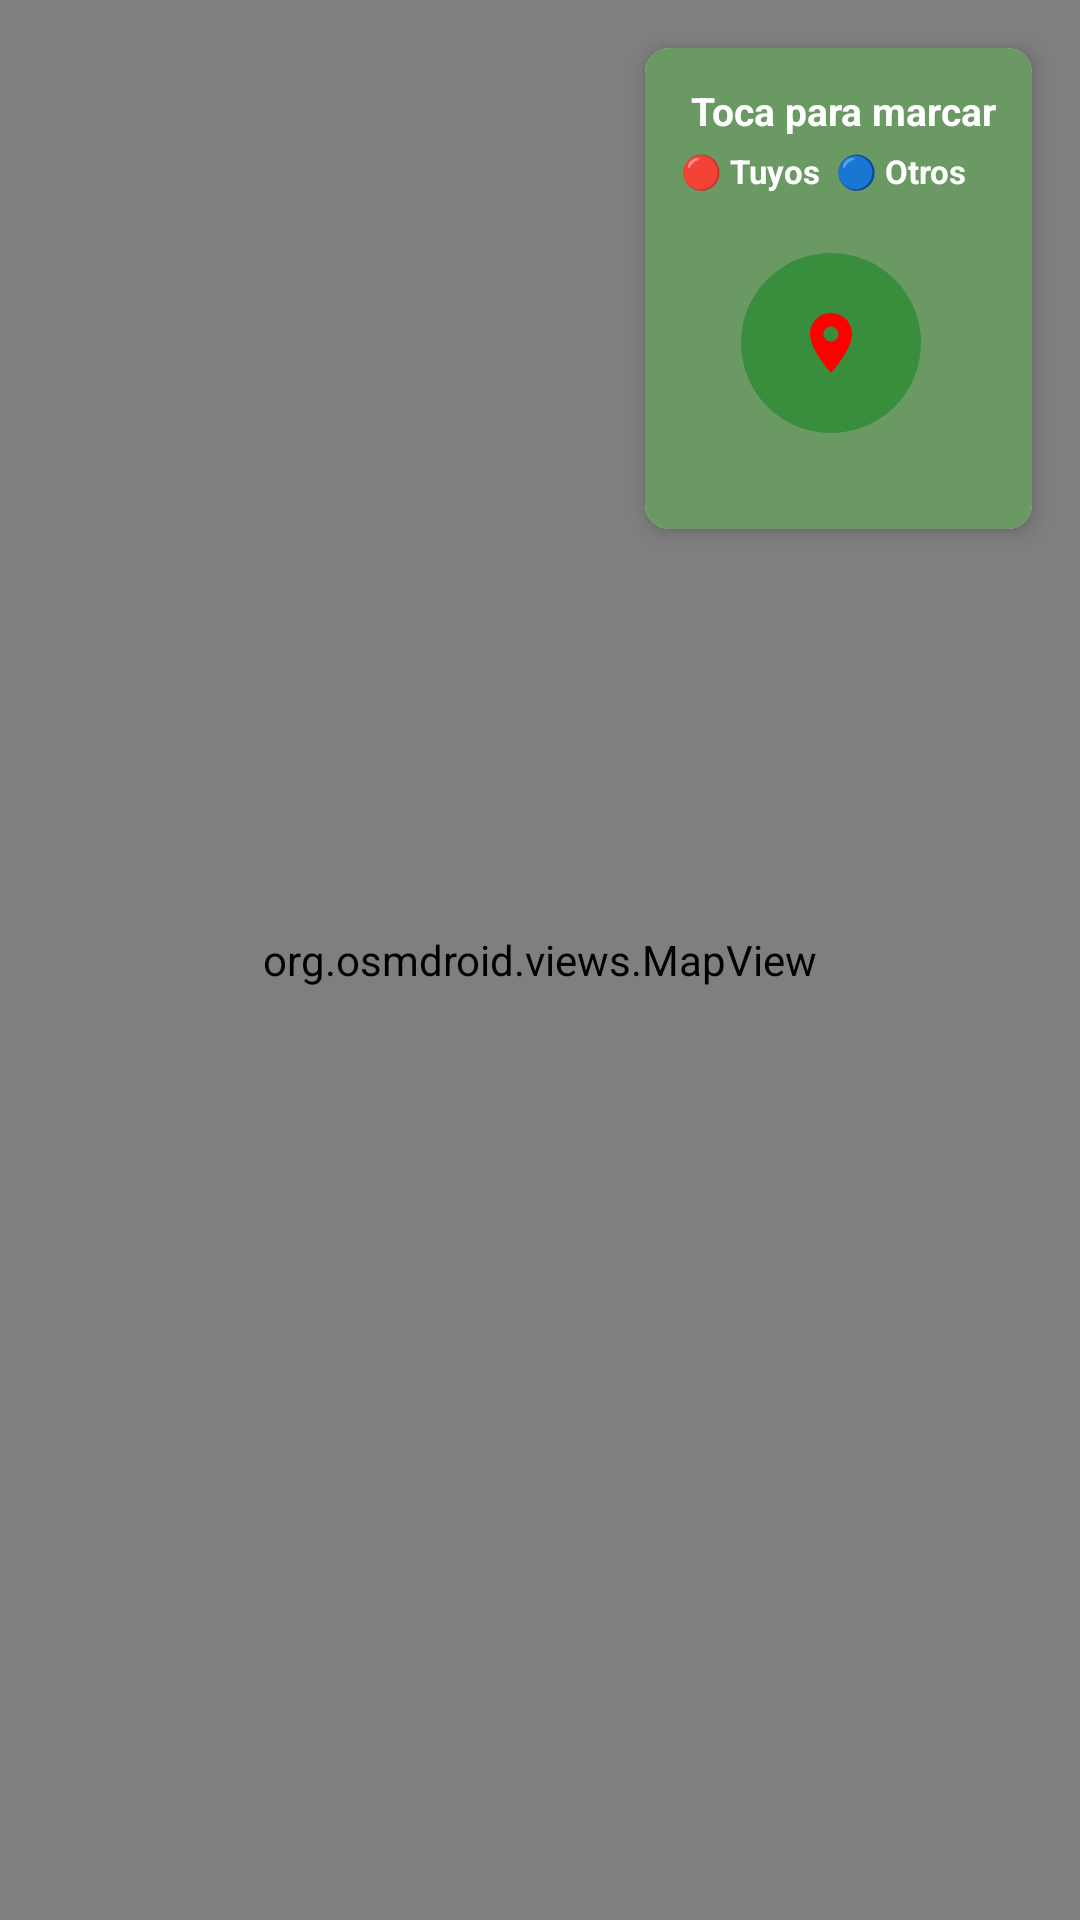

Screen size 1080px x 1920px. Icon name, then its center in pixels as [x,y]:
marker: [831,343]
